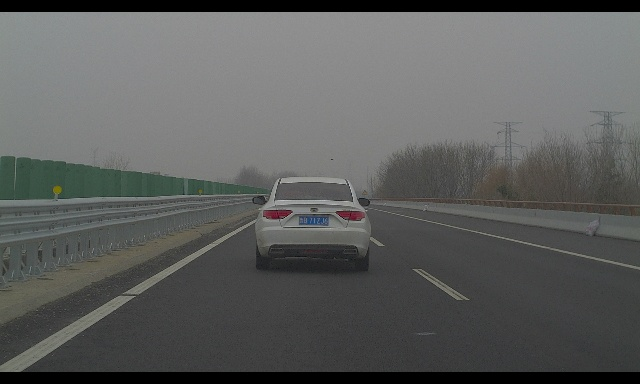car: (252, 177, 371, 272)
